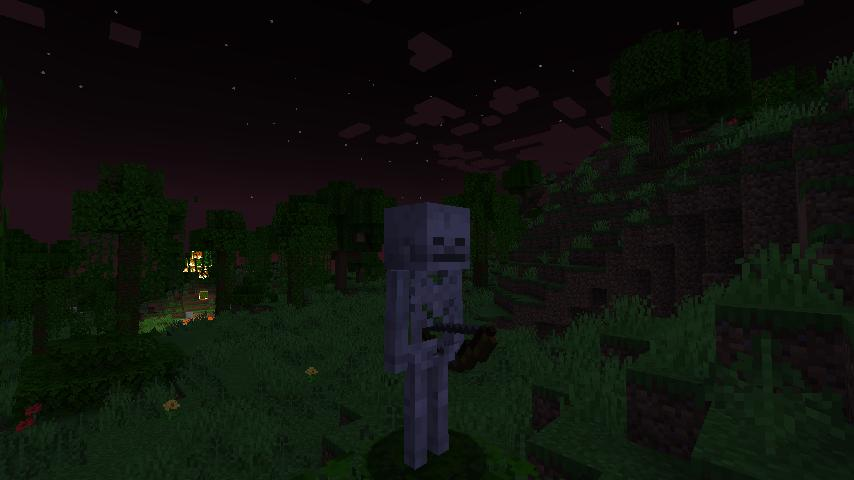skeleton: (375, 197, 498, 479)
